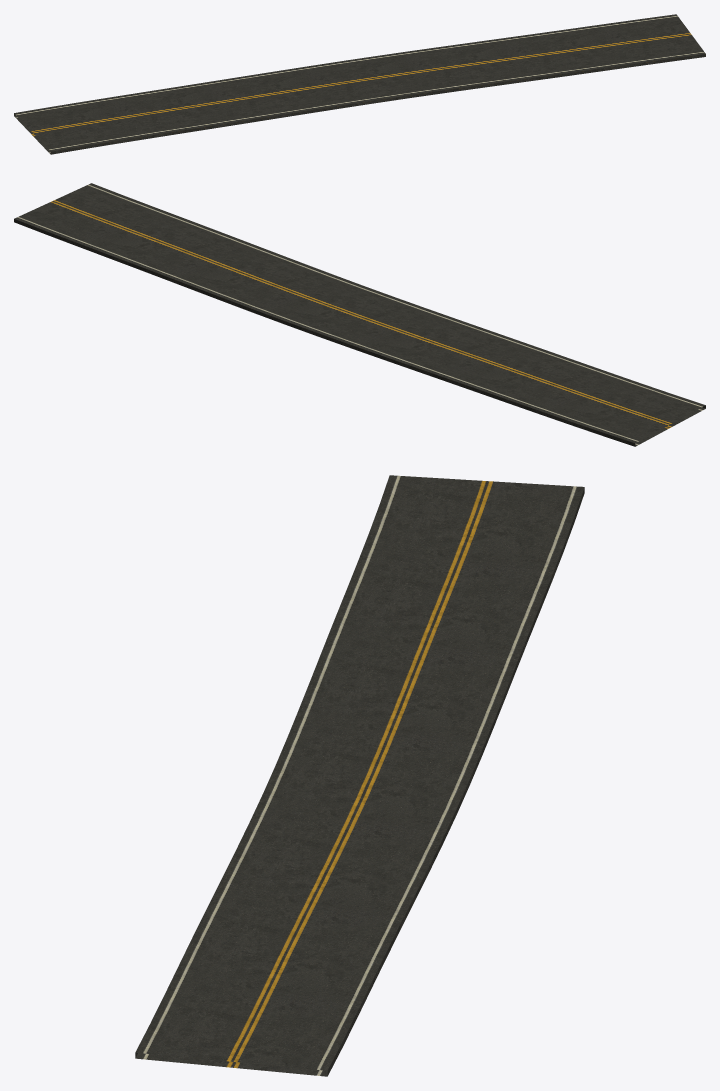
Rendered from SM_Road_04.fbx.
3 views of the same model, one above another, from view 1: azimuth 30°, elevation 25°; view 2: azimuth 150°, elevation 25°; view 3: azimuth 270°, elevation 25° (orthographic). The views are drawn at different scales.
Parts seen in each view (by area): view 1: SM_Road_04; view 2: SM_Road_04; view 3: SM_Road_04.
Boxes of the visible parts, <box> form: SM_Road_04: <box>14,14,705,154</box>; SM_Road_04: <box>14,183,705,446</box>; SM_Road_04: <box>135,475,584,1076</box>.
Bounding box in the file's own units: 10728 × 3422 × 49.95.
Materials: 1 (1 with a texture image).
